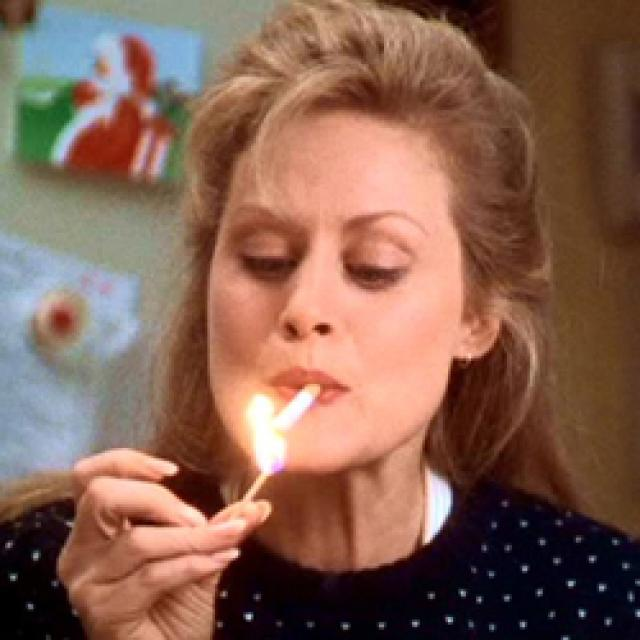Smooking: (239, 376, 332, 447)
